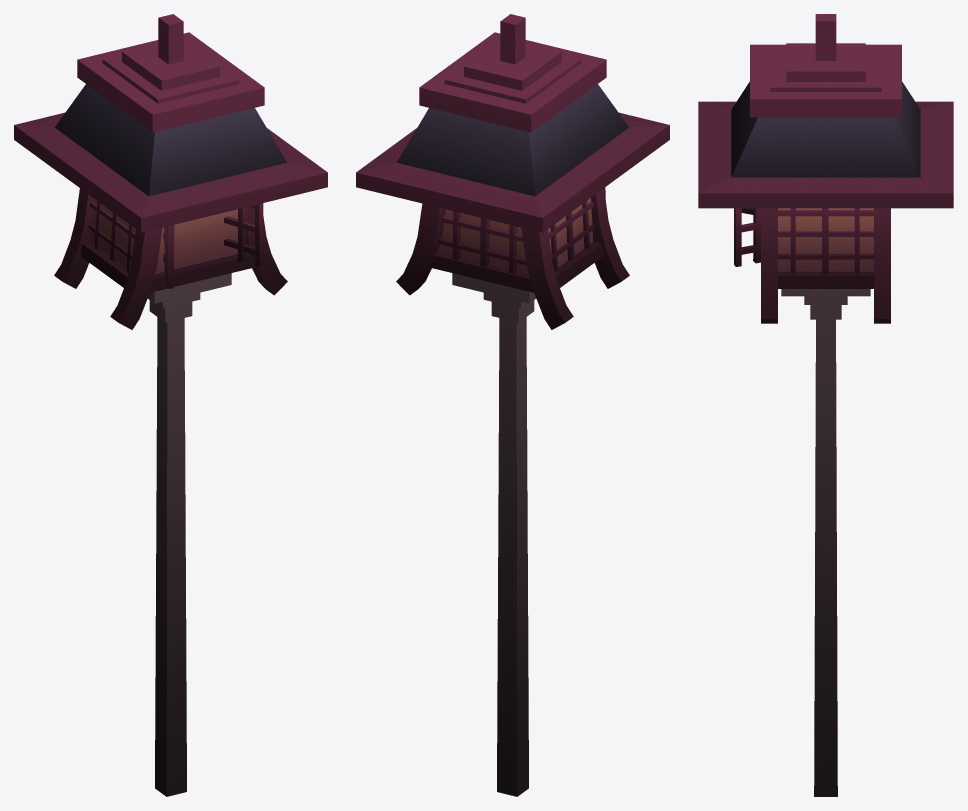
File: LanternaVermelha.fbx
3 views of the same model, side by side, from view 1: azimuth 30°, elevation 25°; view 2: azimuth 150°, elevation 25°; view 3: azimuth 270°, elevation 25° (orthographic).
Visible parts, largest first — view 1: polySurface5; view 2: polySurface5; view 3: polySurface5.
Part boxes in pixels (x1,y1,x2,y2): polySurface5: (14,14,327,796); polySurface5: (356,14,669,796); polySurface5: (698,14,953,796).
Size of the model in its own units: 0.765 by 3.02 by 0.9017.
